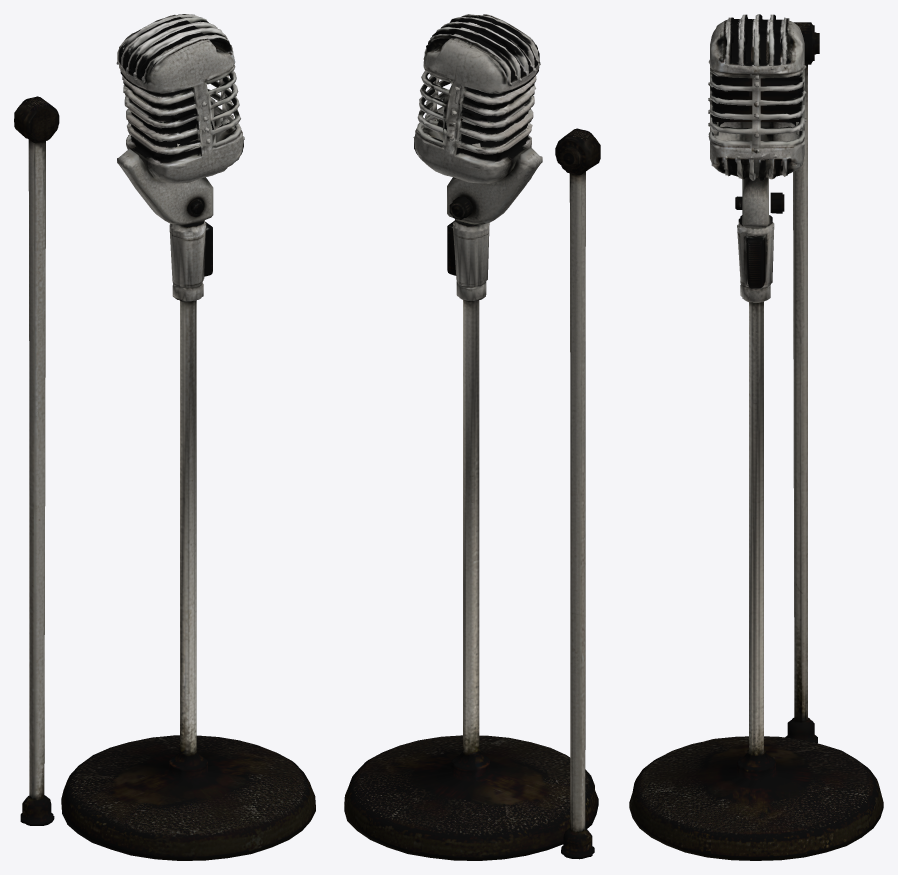
3 views of the same model, side by side, from view 1: azimuth 30°, elevation 25°; view 2: azimuth 150°, elevation 25°; view 3: azimuth 270°, elevation 25° (orthographic).
Parts seen in each view (by area): view 1: tripo_node_e0ecbd52-88e2-4375-b3f6-7f93ed72846c; view 2: tripo_node_e0ecbd52-88e2-4375-b3f6-7f93ed72846c; view 3: tripo_node_e0ecbd52-88e2-4375-b3f6-7f93ed72846c.
Boxes of the visible parts, bbox=[...] form: tripo_node_e0ecbd52-88e2-4375-b3f6-7f93ed72846c: bbox=[14, 14, 315, 860]; tripo_node_e0ecbd52-88e2-4375-b3f6-7f93ed72846c: bbox=[344, 14, 600, 860]; tripo_node_e0ecbd52-88e2-4375-b3f6-7f93ed72846c: bbox=[629, 14, 883, 860].
Bounding box in the file's own units: 0.3418 × 0.998 × 0.2949.
1 material, 1 textured.
